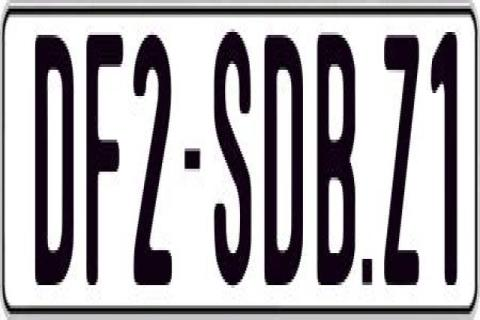0: (131, 26, 171, 276), (428, 32, 454, 285)
B: (316, 29, 358, 297)
D: (261, 29, 305, 279), (35, 32, 74, 296)
F: (85, 26, 126, 282)
S: (215, 29, 255, 288)
Z: (384, 35, 422, 288)
